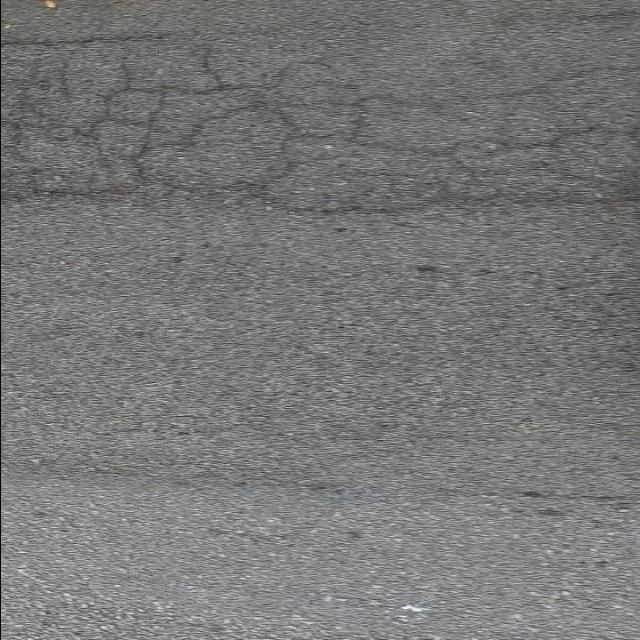cracks: (0, 26, 640, 221)
